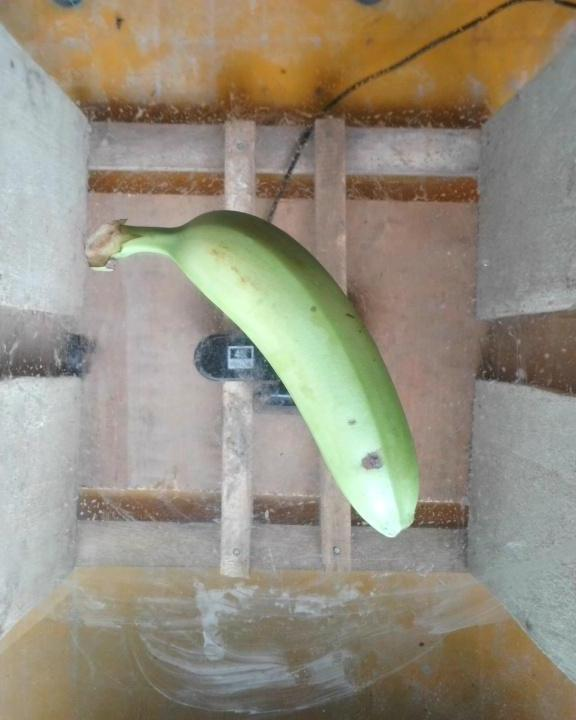CLASS B: (75, 210, 434, 538)
Class A: (357, 444, 391, 476)
